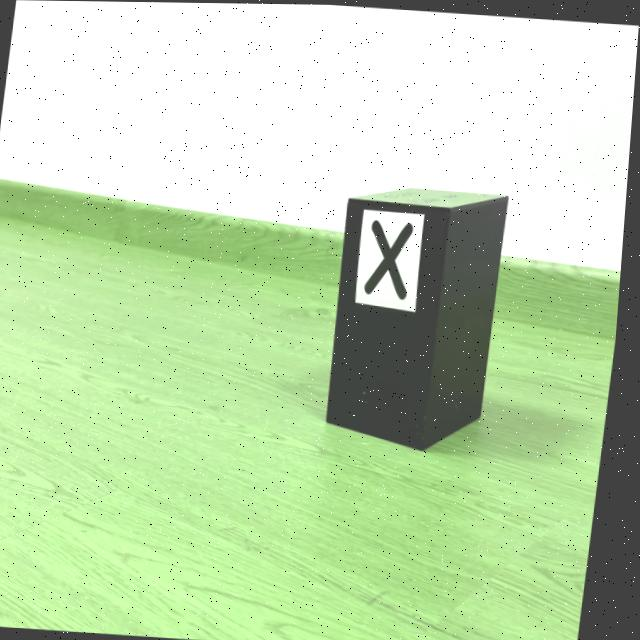X: (369, 220, 416, 299)
